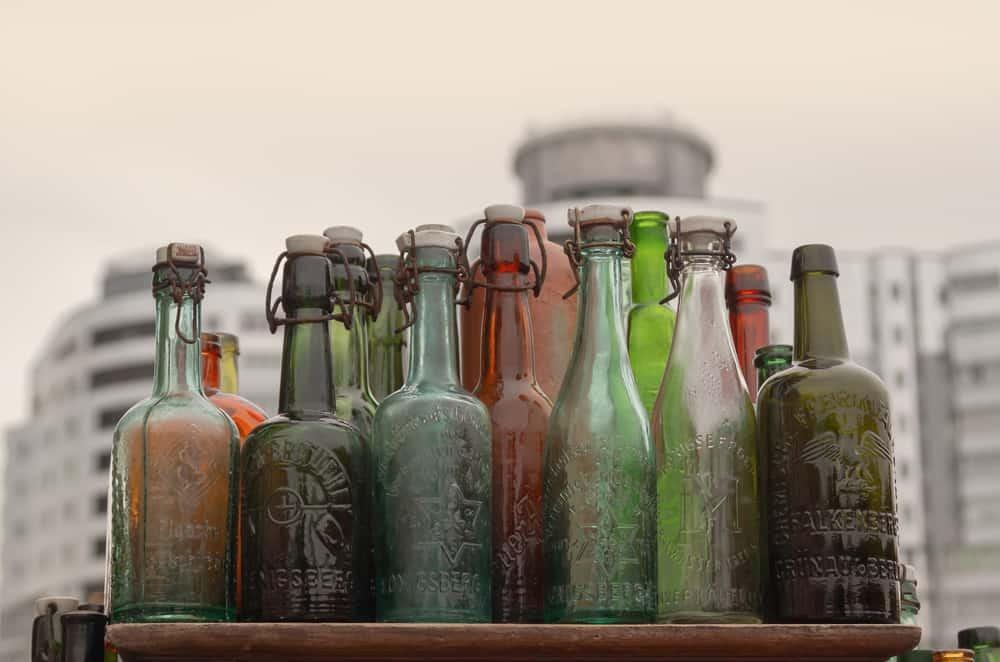glass: (762, 243, 904, 623), (101, 241, 239, 619), (241, 236, 374, 623), (378, 223, 492, 622), (549, 204, 651, 625), (661, 216, 759, 621), (478, 204, 556, 623)
